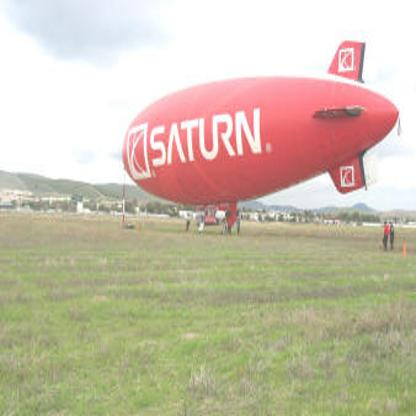Airship: (118, 38, 403, 215)
